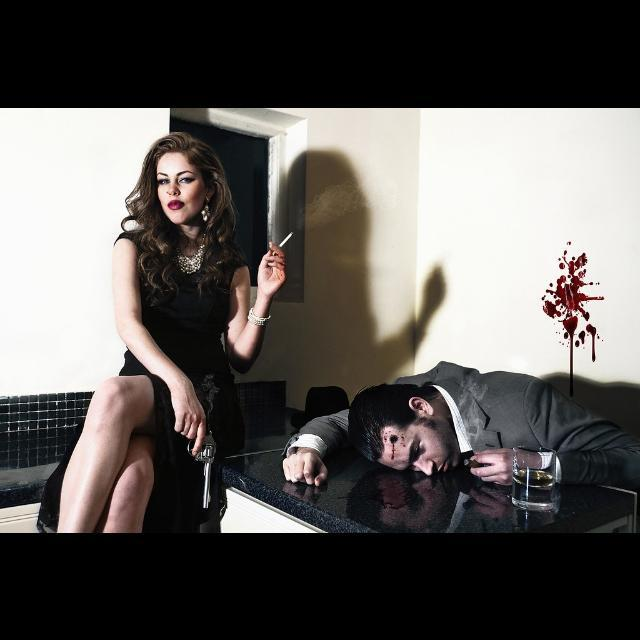rokok: (276, 231, 294, 249)
